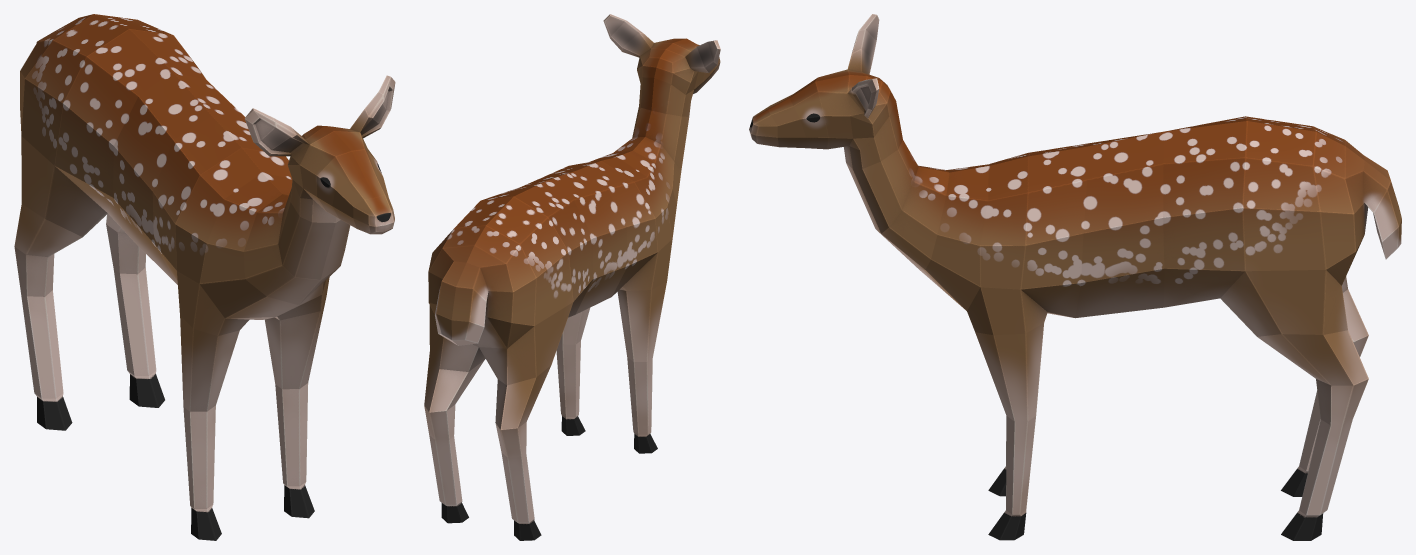
3 views of the same model, side by side, from view 1: azimuth 30°, elevation 25°; view 2: azimuth 150°, elevation 25°; view 3: azimuth 270°, elevation 25° (orthographic). The views are drawn at different scales.
Parts seen in each view (by area): view 1: MuleDeer_mesh; view 2: MuleDeer_mesh; view 3: MuleDeer_mesh.
Boxes of the visible parts, left/top/right/bottom form: MuleDeer_mesh: left=14, top=14, right=395, bottom=540; MuleDeer_mesh: left=424, top=14, right=720, bottom=540; MuleDeer_mesh: left=749, top=14, right=1401, bottom=540.
Size of the model in its own units: 3.42 by 10.34 by 13.13.
1 material, 1 textured.
